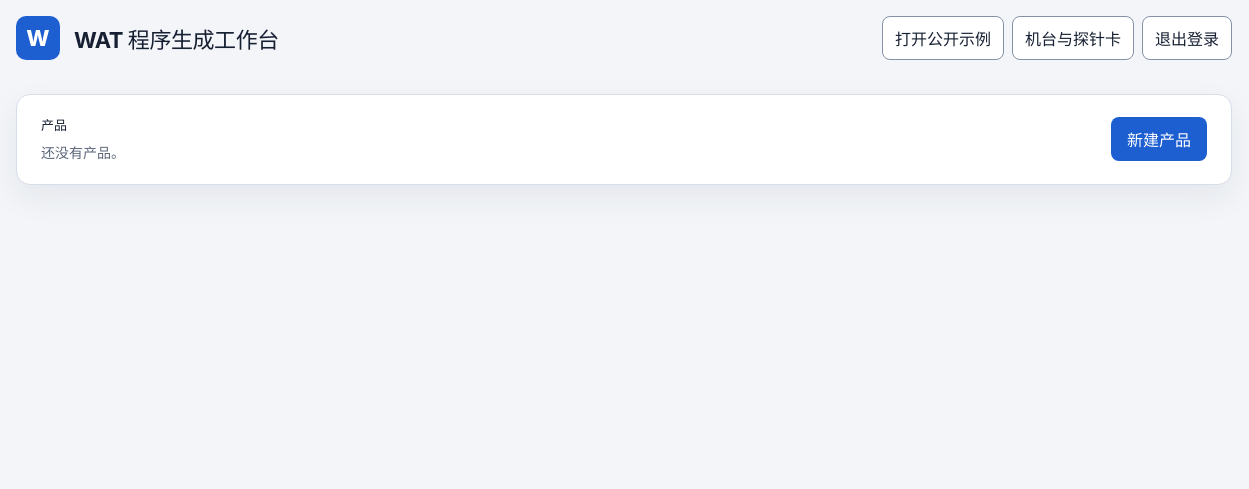
Scenario: WAT pilot › opens the installed hardware directory and returns to plans
Click the button "机台与探针卡" at (1073, 38), box 1012,16 -> 1134,60
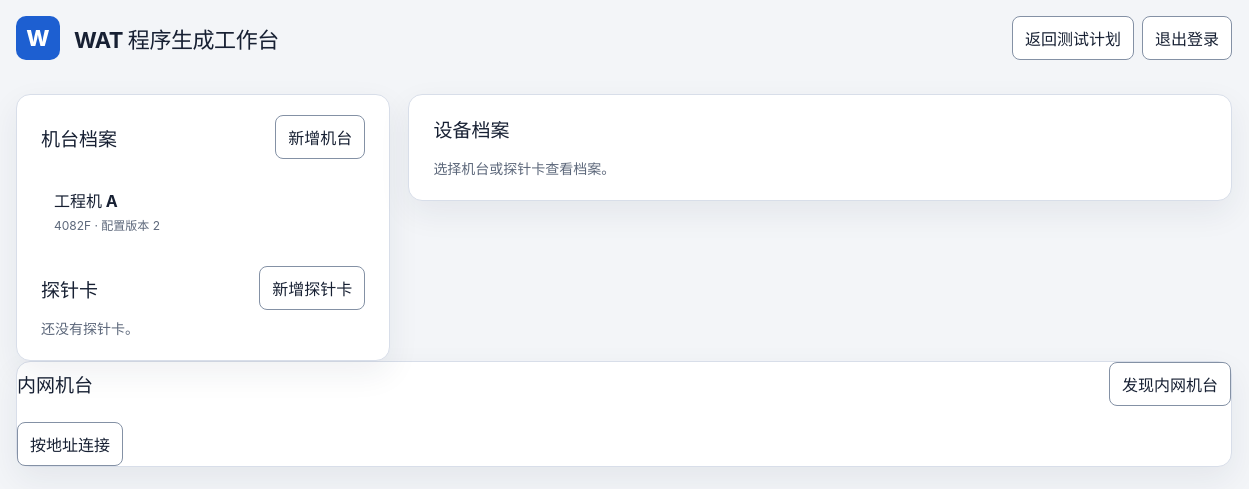
Check: the button "工程机 A 4082F · 配置版本 2" is enabled, box 41,175 -> 365,246
Click the button "返回测试计划" at (1073, 38), box 1012,16 -> 1134,60
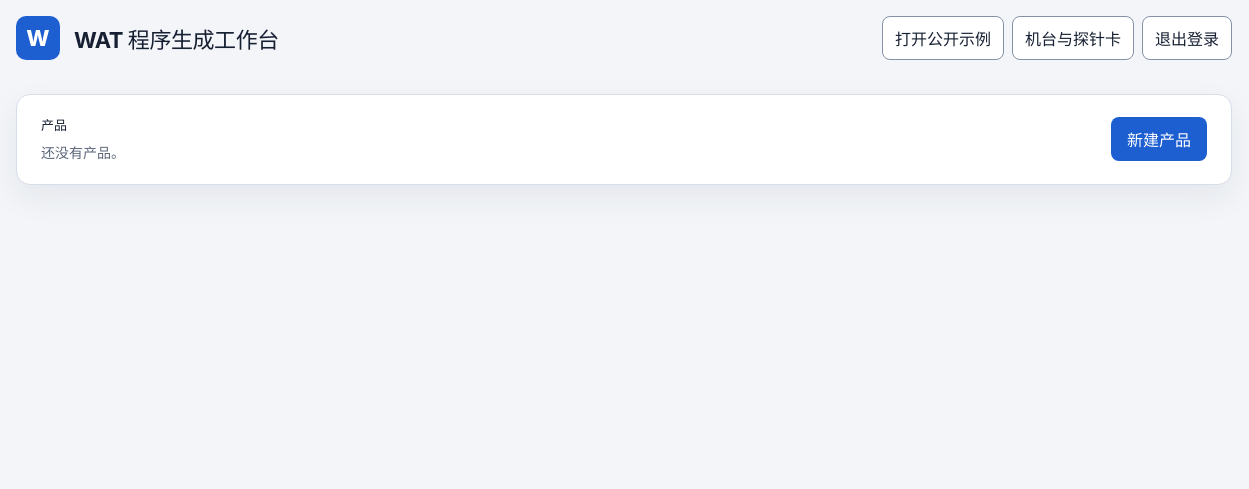
Check: the button "新建产品" is enabled, box 1111,117 -> 1207,161
